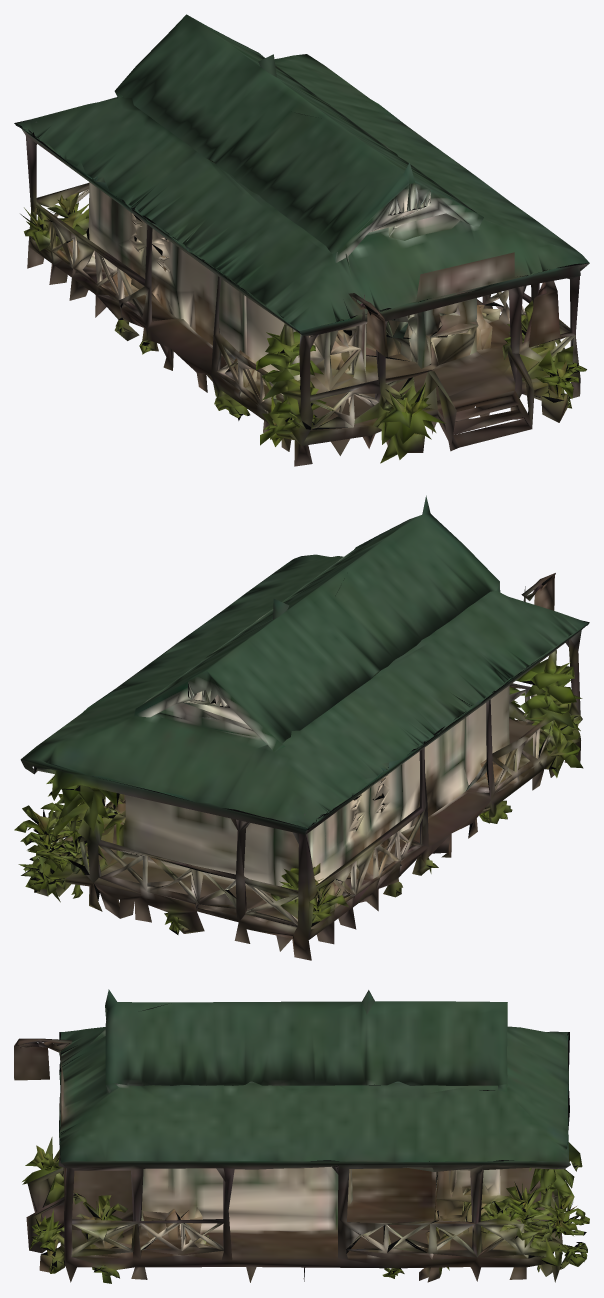
File: kuranda-shop.glb
3 views of the same model, one above another, from view 1: azimuth 30°, elevation 25°; view 2: azimuth 150°, elevation 25°; view 3: azimuth 270°, elevation 25° (orthographic). The views are drawn at different scales.
Parts seen in each view (by area): view 1: Model; view 2: Model; view 3: Model.
Part boxes in pixels (box(x1,y1,x2,y2)): Model: box(14, 14, 589, 466); Model: box(14, 495, 589, 960); Model: box(14, 989, 589, 1283).
Size of the model in its own units: 1.04 by 0.8418 by 1.86.
1 material, 1 textured.
